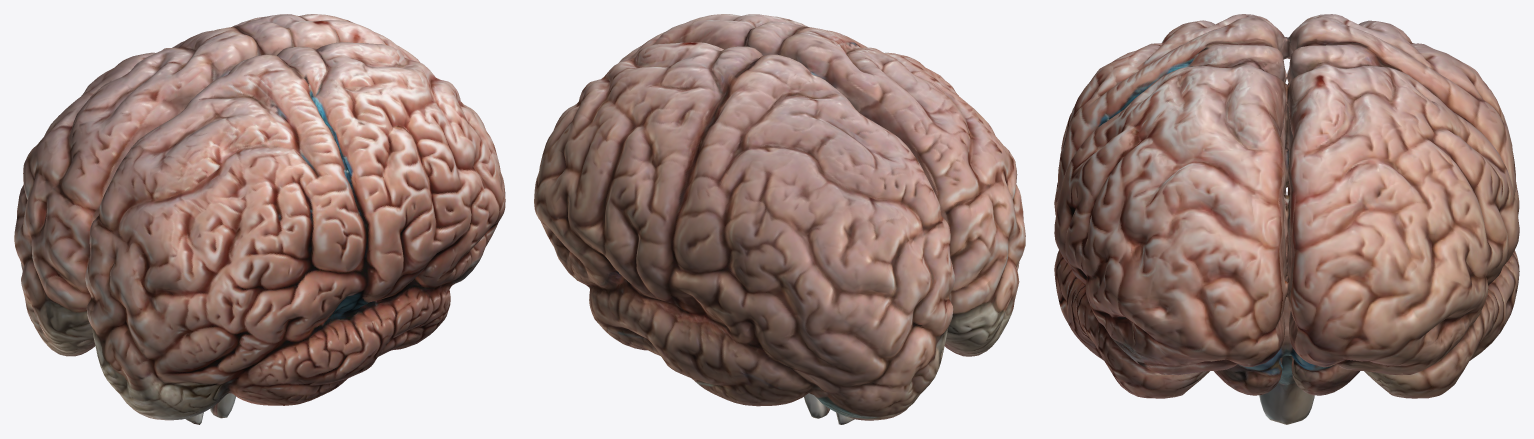
The model's file is refined_human brain.glb.
3 renders of one model, left to right at view 1: azimuth 30°, elevation 25°; view 2: azimuth 150°, elevation 25°; view 3: azimuth 270°, elevation 25°, orthographic. The views are drawn at different scales.
Bounding box in the file's own units: 1.99 × 1.73 × 1.75.
1 material, 1 textured.
